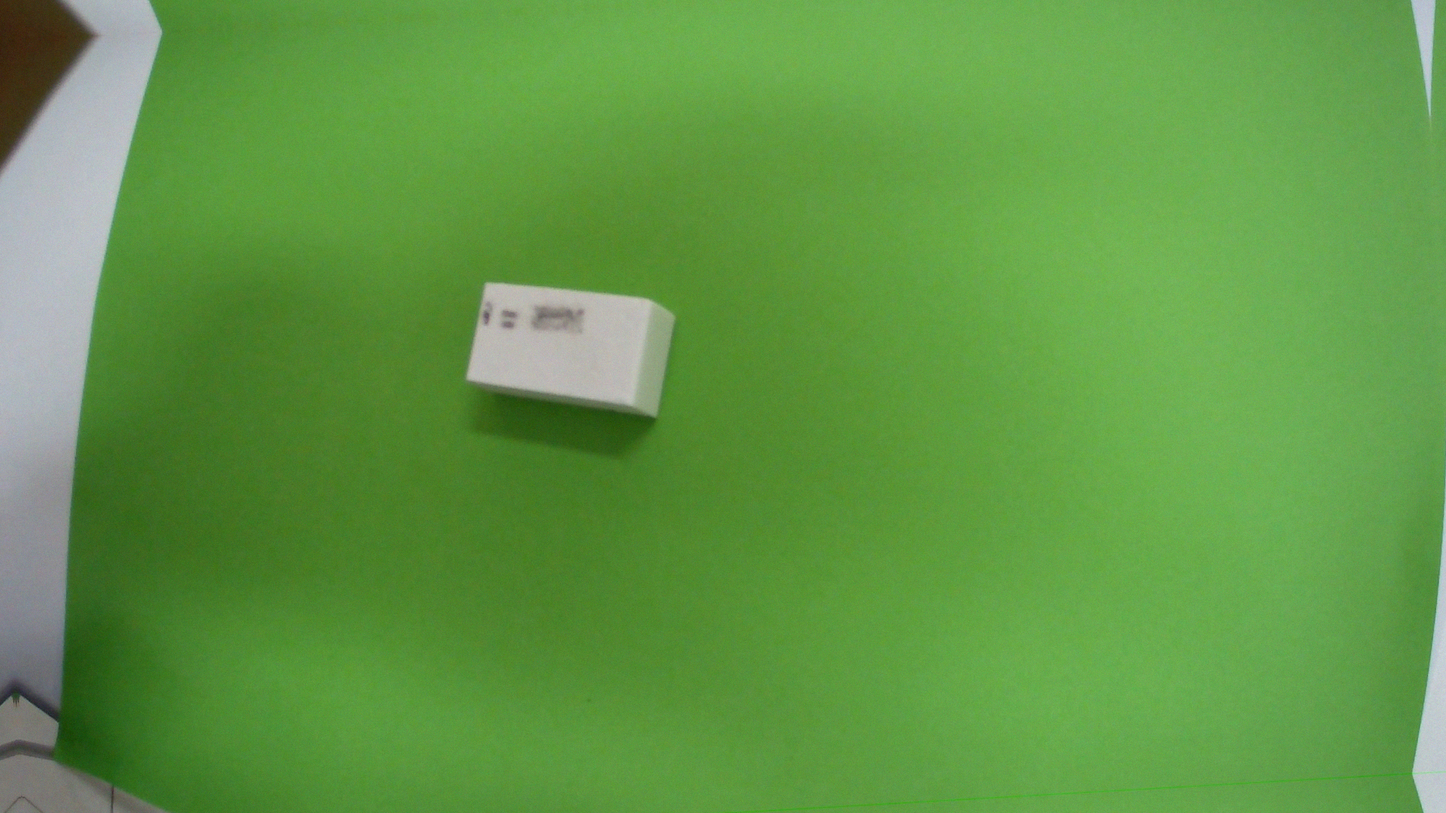gom: (462, 263, 679, 435)
